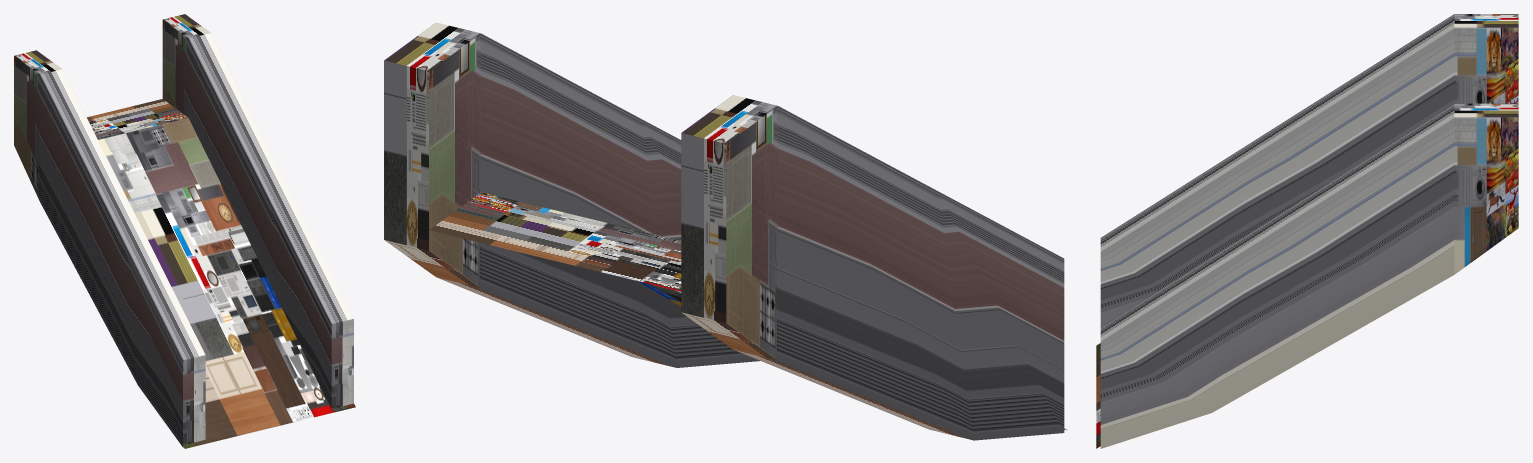
File: Stairs_1_physics.fbx
The picture shows the model from 3 angles, left to right: view 1: azimuth 30°, elevation 25°; view 2: azimuth 150°, elevation 25°; view 3: azimuth 270°, elevation 25°; orthographic projection. The views are drawn at different scales.
Visible parts, largest first — view 1: polySurface1595; view 2: polySurface1595; view 3: polySurface1595.
Part boxes in pixels (x1,y1,x2,y2): polySurface1595: [14, 14, 355, 448]; polySurface1595: [384, 22, 1067, 440]; polySurface1595: [1096, 14, 1518, 448].
Bounding box in the file's own units: 3.8 × 5.69 × 6.57.
